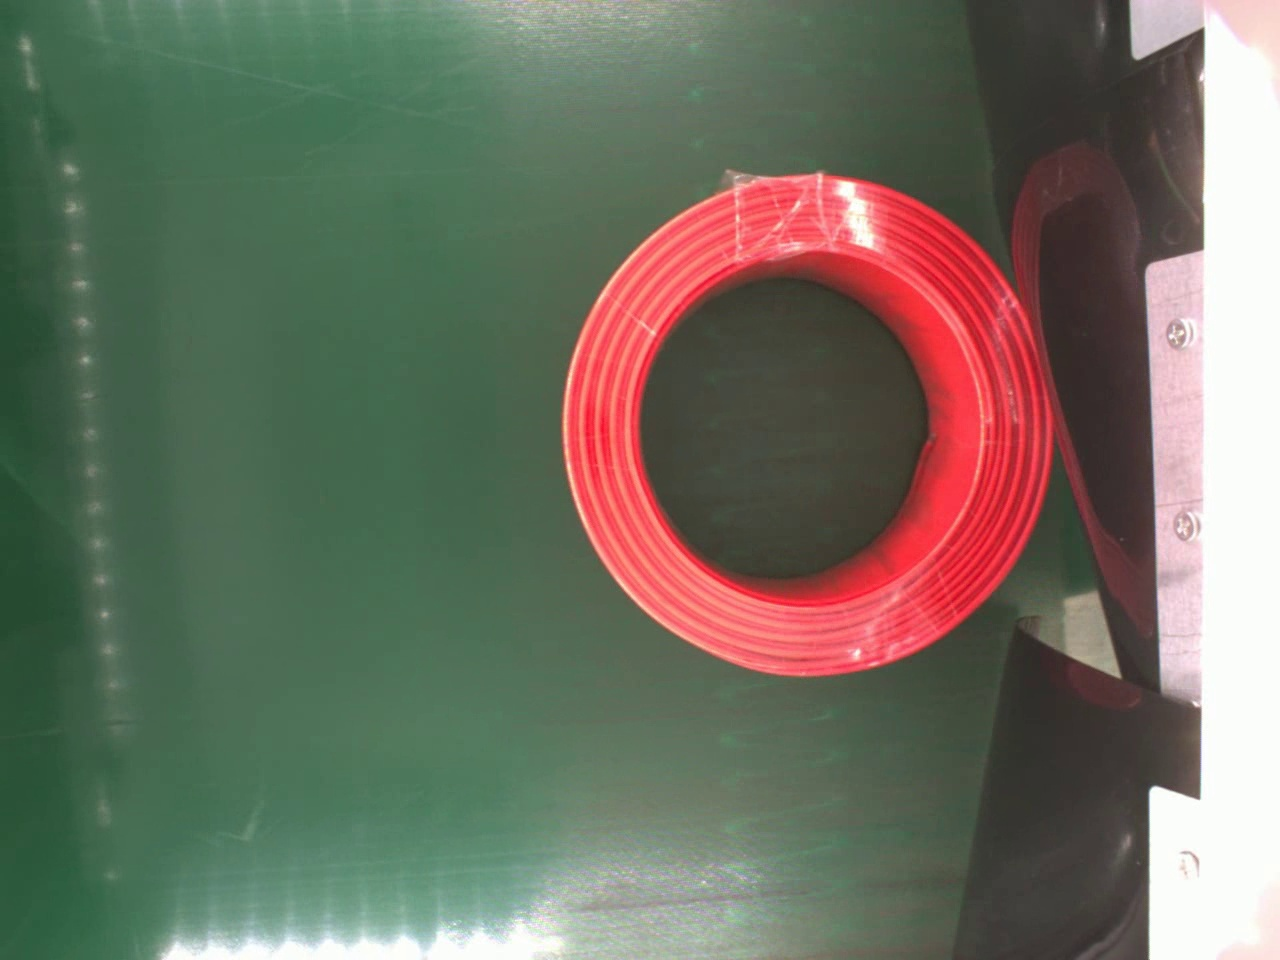red: (563, 169, 1051, 690)
